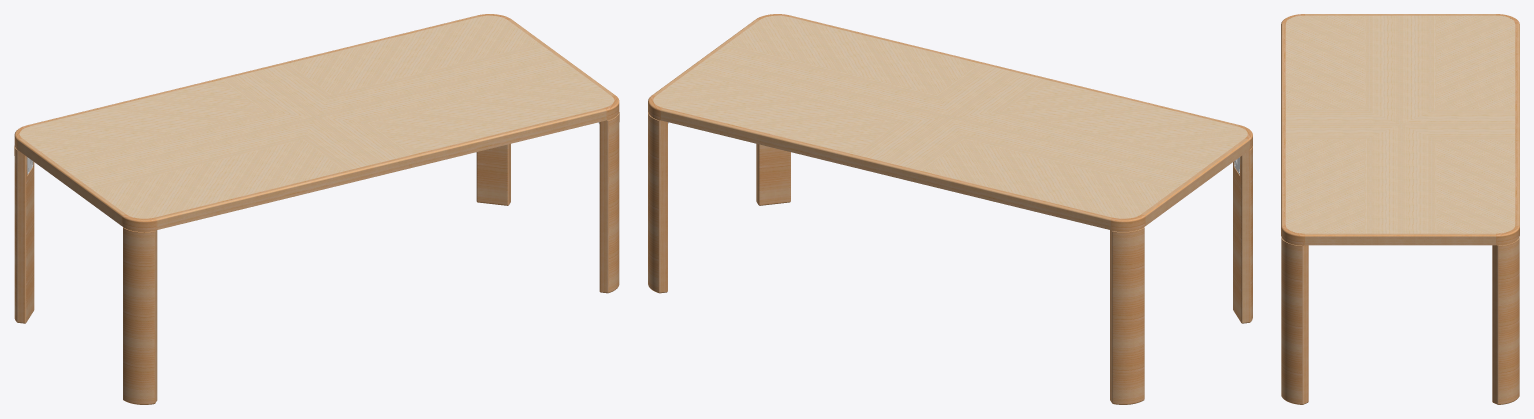
File: IFD4221TBL1-mwmli9t9.glb
The picture shows the model from 3 angles, left to right: view 1: azimuth 30°, elevation 25°; view 2: azimuth 150°, elevation 25°; view 3: azimuth 270°, elevation 25°; orthographic projection. The views are drawn at different scales.
Parts seen in each view (by area): view 1: IFD4221TBLSLDASM-1/IFD4221TBL-CORTE DUELAS 3-1/IFD42211TBL-D (×4), IFD4221TBLSLDASM-1/IFD4221TBL-CORTE DUELAS 3-5/IFD42211TBL-D (×4), IFD4221TBLSLDASM-1/IFD4221TBL-CORTE DUELAS 3-4/IFD42211TBL-D (×4), IFD4221TBLSLDASM-1/IFD4221TBL-CORTE DUELAS 3-3/IFD42211TBL-D (×4), IFD4221TBLSLDASM-1/IFD42211TBL-DUELA CUBIERTA 2A-1, IFD4221TBLSLDASM-1/IFD42211TBL-DUELA CUBIERTA 2A-2, IFD4221TBL2-BOQUILLA FRONTAL CUBIERTA-3, 4221TBL1-PATA-7, 4221TBL1-PATA-1, IFD4221TBLSLDASM-1/IFD42211TBL-DUELA CUBIERTA 3-3, IFD4221TBLSLDASM-1/IFD42211TBL-DUELA CUBIERTA 3-4, IFD4221TBL1 (+3 smaller); view 2: IFD4221TBLSLDASM-1/IFD4221TBL-CORTE DUELAS 3-3/IFD42211TBL-D (×4), IFD4221TBLSLDASM-1/IFD4221TBL-CORTE DUELAS 3-4/IFD42211TBL-D (×4), IFD4221TBLSLDASM-1/IFD4221TBL-CORTE DUELAS 3-5/IFD42211TBL-D (×4), IFD4221TBLSLDASM-1/IFD4221TBL-CORTE DUELAS 3-1/IFD42211TBL-D (×4), IFD4221TBLSLDASM-1/IFD42211TBL-DUELA CUBIERTA 2A-1, IFD4221TBLSLDASM-1/IFD42211TBL-DUELA CUBIERTA 2A-2, IFD4221TBL2-BOQUILLA FRONTAL CUBIERTA-2, IFD4221TBL1, IFD4221TBLSLDASM-1/IFD42211TBL-DUELA CUBIERTA 3-4, IFD4221TBLSLDASM-1/IFD42211TBL-DUELA CUBIERTA 3-3, 4221TBL1-PATA-6, 4221TBL1-PATA-7 (+3 smaller); view 3: IFD4221TBLSLDASM-1/IFD4221TBL-CORTE DUELAS 3-5/IFD42211TBL-D (×4), IFD4221TBLSLDASM-1/IFD4221TBL-CORTE DUELAS 3-4/IFD42211TBL-D (×4), IFD4221TBLSLDASM-1/IFD4221TBL-CORTE DUELAS 3-1/IFD42211TBL-D (×4), IFD4221TBLSLDASM-1/IFD4221TBL-CORTE DUELAS 3-3/IFD42211TBL-D (×4), IFD4221TBLSLDASM-1/IFD42211TBL-DUELA CUBIERTA 2A-1, IFD4221TBLSLDASM-1/IFD42211TBL-DUELA CUBIERTA 2A-2, 4221TBL1-PATA-6, 4221TBL1-PATA-1, IFD4221TBLSLDASM-1/IFD42211TBL-DUELA CUBIERTA 3-3, IFD4221TBLSLDASM-1/IFD42211TBL-DUELA CUBIERTA 3-4, IFD4221TBL2-BOQUILLA LATERAL CUBIERTA-2, IFD4221TBL2-BOQUILLA FRONTAL CUBIERTA-2 (+4 smaller).
Boxes of the visible parts, x1,y1,x2,y2 form: IFD4221TBLSLDASM-1/IFD4221TBL-CORTE DUELAS 3-1/IFD42211TBL-D (×4): [19, 80, 263, 161]; IFD4221TBLSLDASM-1/IFD4221TBL-CORTE DUELAS 3-5/IFD42211TBL-D (×4): [370, 72, 614, 154]; IFD4221TBLSLDASM-1/IFD4221TBL-CORTE DUELAS 3-4/IFD42211TBL-D (×4): [289, 15, 539, 94]; IFD4221TBLSLDASM-1/IFD4221TBL-CORTE DUELAS 3-3/IFD42211TBL-D (×4): [94, 139, 344, 218]; IFD4221TBLSLDASM-1/IFD42211TBL-DUELA CUBIERTA 2A-1: [55, 111, 316, 190]; IFD4221TBLSLDASM-1/IFD42211TBL-DUELA CUBIERTA 2A-2: [317, 44, 578, 122]; IFD4221TBL2-BOQUILLA FRONTAL CUBIERTA-3: [155, 108, 606, 229]; 4221TBL1-PATA-7: [123, 227, 157, 404]; 4221TBL1-PATA-1: [599, 112, 619, 293]; IFD4221TBLSLDASM-1/IFD42211TBL-DUELA CUBIERTA 3-3: [221, 63, 330, 116]; IFD4221TBLSLDASM-1/IFD42211TBL-DUELA CUBIERTA 3-4: [303, 117, 412, 170]; IFD4221TBL1: [14, 146, 34, 323]; IFD4221TBLSLDASM-1/IFD4221TBL-CORTE DUELAS 3-3/IFD42211TBL-D (×4): [1004, 80, 1247, 161]; IFD4221TBLSLDASM-1/IFD4221TBL-CORTE DUELAS 3-4/IFD42211TBL-D (×4): [653, 72, 896, 154]; IFD4221TBLSLDASM-1/IFD4221TBL-CORTE DUELAS 3-5/IFD42211TBL-D (×4): [727, 15, 978, 94]; IFD4221TBLSLDASM-1/IFD4221TBL-CORTE DUELAS 3-1/IFD42211TBL-D (×4): [922, 140, 1172, 218]; IFD4221TBLSLDASM-1/IFD42211TBL-DUELA CUBIERTA 2A-1: [951, 111, 1212, 190]; IFD4221TBLSLDASM-1/IFD42211TBL-DUELA CUBIERTA 2A-2: [689, 44, 949, 123]; IFD4221TBL2-BOQUILLA FRONTAL CUBIERTA-2: [661, 108, 1112, 229]; IFD4221TBL1: [1110, 157, 1239, 404]; IFD4221TBLSLDASM-1/IFD42211TBL-DUELA CUBIERTA 3-4: [936, 63, 1045, 117]; IFD4221TBLSLDASM-1/IFD42211TBL-DUELA CUBIERTA 3-3: [855, 117, 964, 170]; 4221TBL1-PATA-6: [648, 112, 667, 293]; 4221TBL1-PATA-7: [1233, 146, 1252, 323]; IFD4221TBLSLDASM-1/IFD4221TBL-CORTE DUELAS 3-5/IFD42211TBL-D (×4): [1286, 139, 1364, 233]; IFD4221TBLSLDASM-1/IFD4221TBL-CORTE DUELAS 3-4/IFD42211TBL-D (×4): [1436, 139, 1514, 233]; IFD4221TBLSLDASM-1/IFD4221TBL-CORTE DUELAS 3-1/IFD42211TBL-D (×4): [1436, 15, 1514, 109]; IFD4221TBLSLDASM-1/IFD4221TBL-CORTE DUELAS 3-3/IFD42211TBL-D (×4): [1286, 15, 1364, 109]; IFD4221TBLSLDASM-1/IFD42211TBL-DUELA CUBIERTA 2A-1: [1364, 15, 1436, 124]; IFD4221TBLSLDASM-1/IFD42211TBL-DUELA CUBIERTA 2A-2: [1364, 124, 1436, 233]; 4221TBL1-PATA-6: [1492, 237, 1519, 404]; 4221TBL1-PATA-1: [1281, 237, 1308, 404]; IFD4221TBLSLDASM-1/IFD42211TBL-DUELA CUBIERTA 3-3: [1401, 109, 1514, 139]; IFD4221TBLSLDASM-1/IFD42211TBL-DUELA CUBIERTA 3-4: [1286, 109, 1399, 139]; IFD4221TBL2-BOQUILLA LATERAL CUBIERTA-2: [1305, 233, 1495, 245]; IFD4221TBL2-BOQUILLA FRONTAL CUBIERTA-2: [1515, 23, 1519, 225].
Size of the model in its own units: 2.2 by 0.785 by 1.
8 materials, 4 textured.
